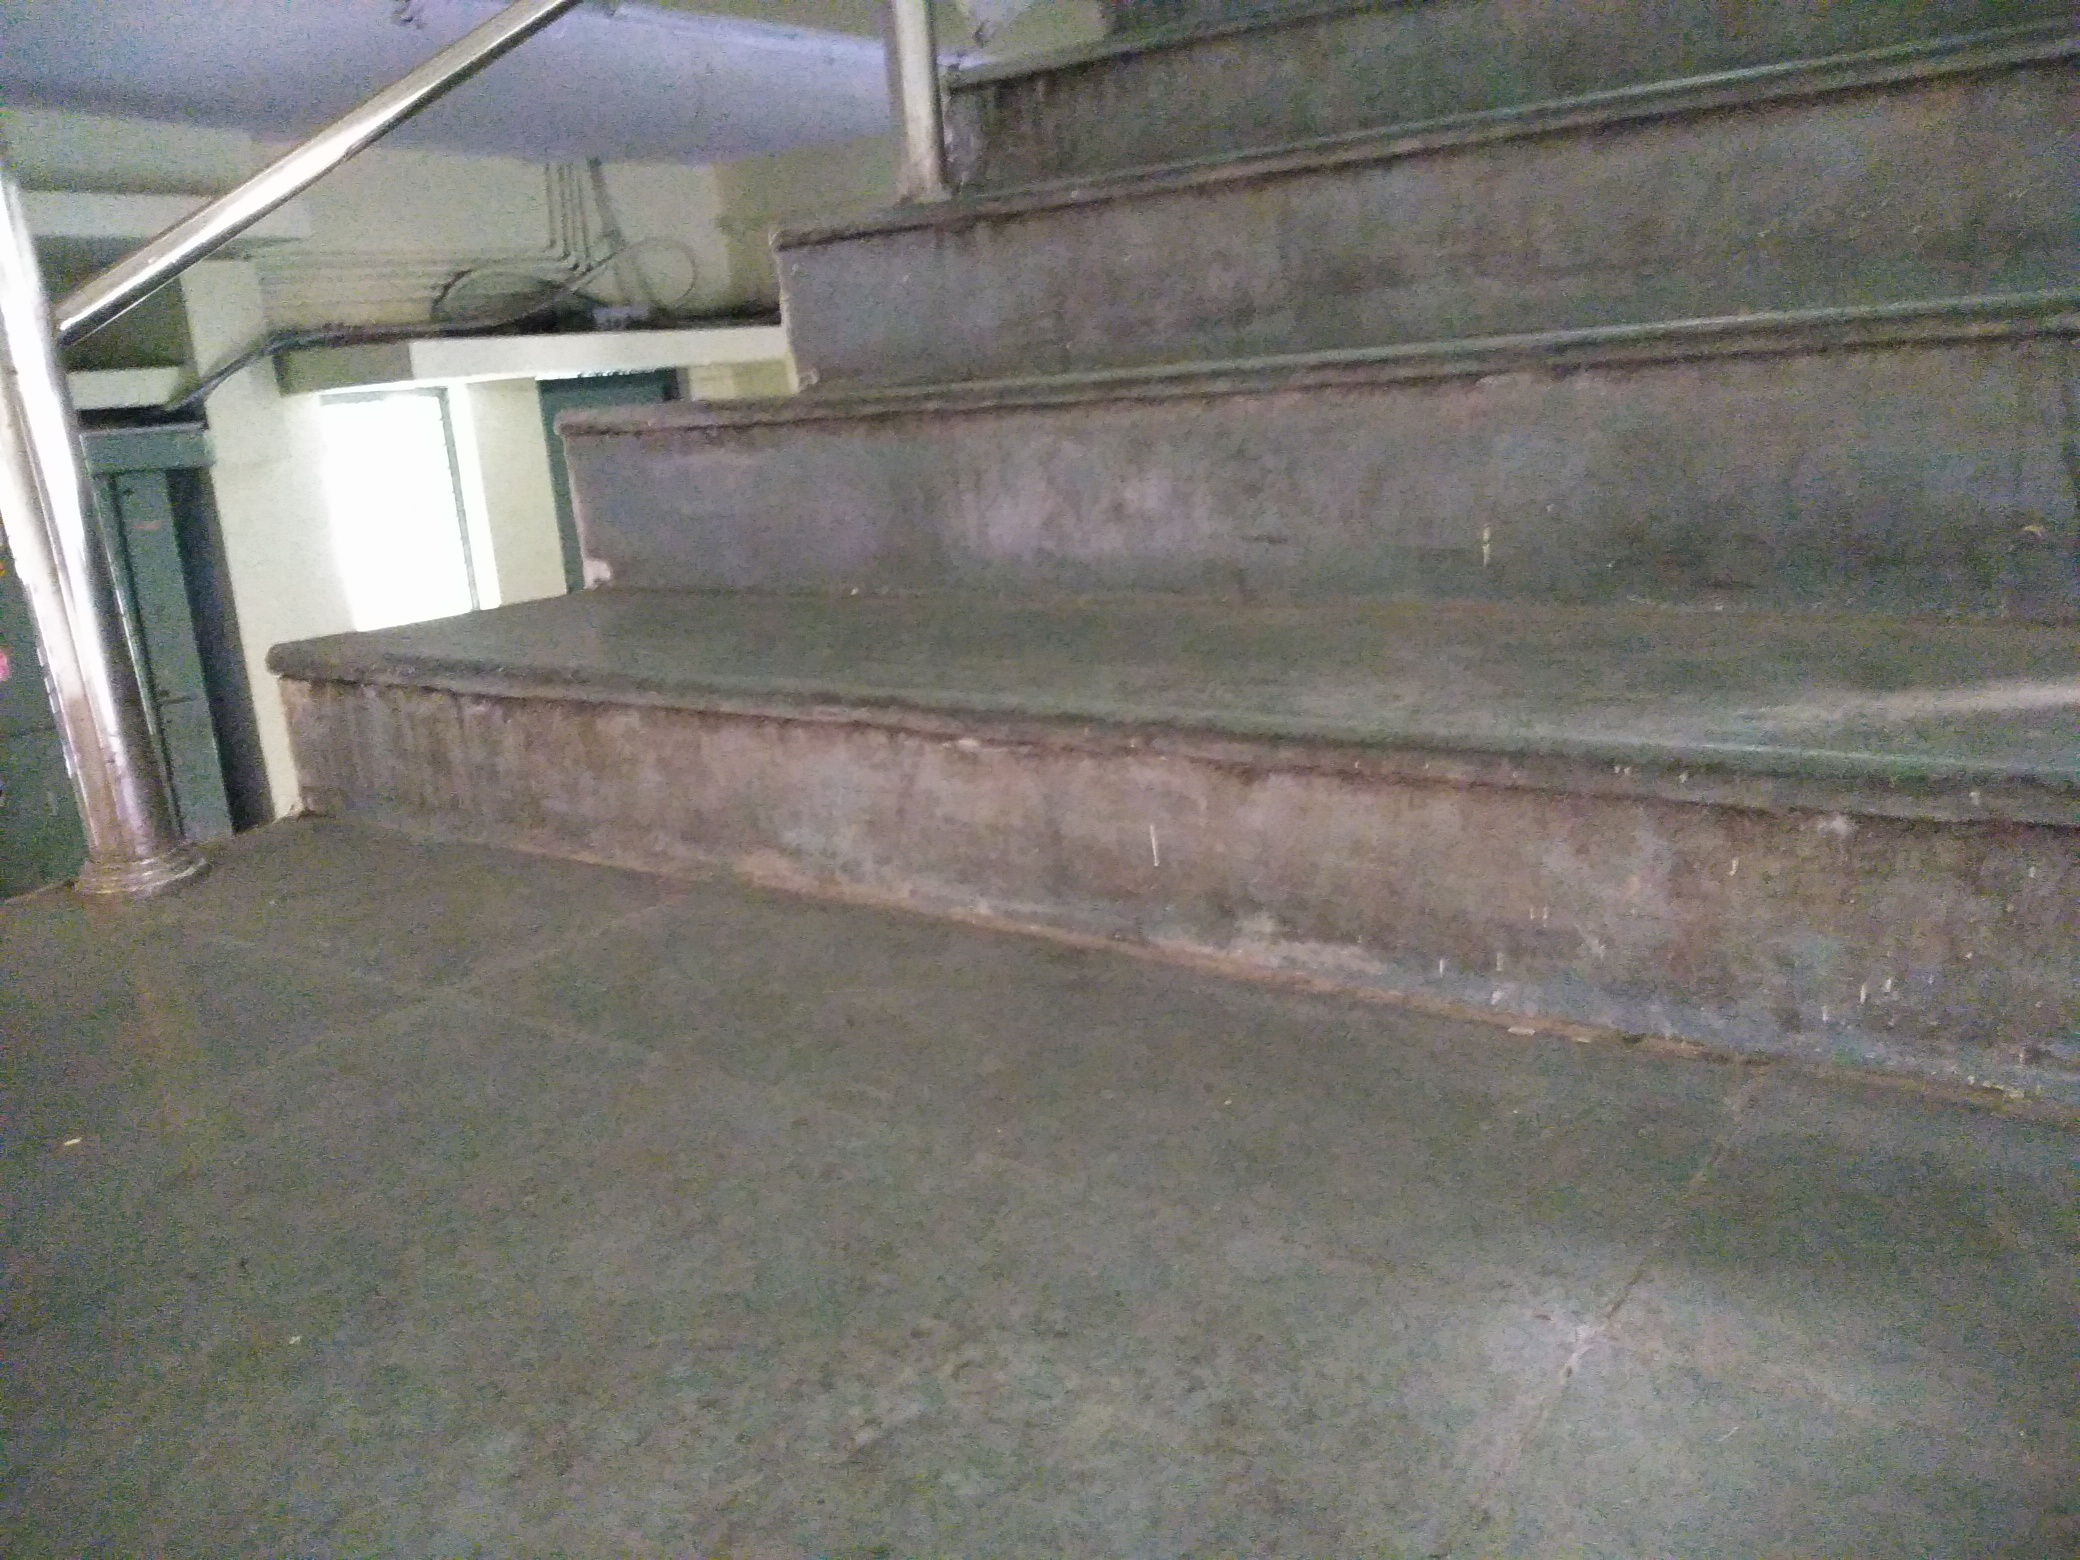stairs_up: (270, 2, 2069, 1096)
